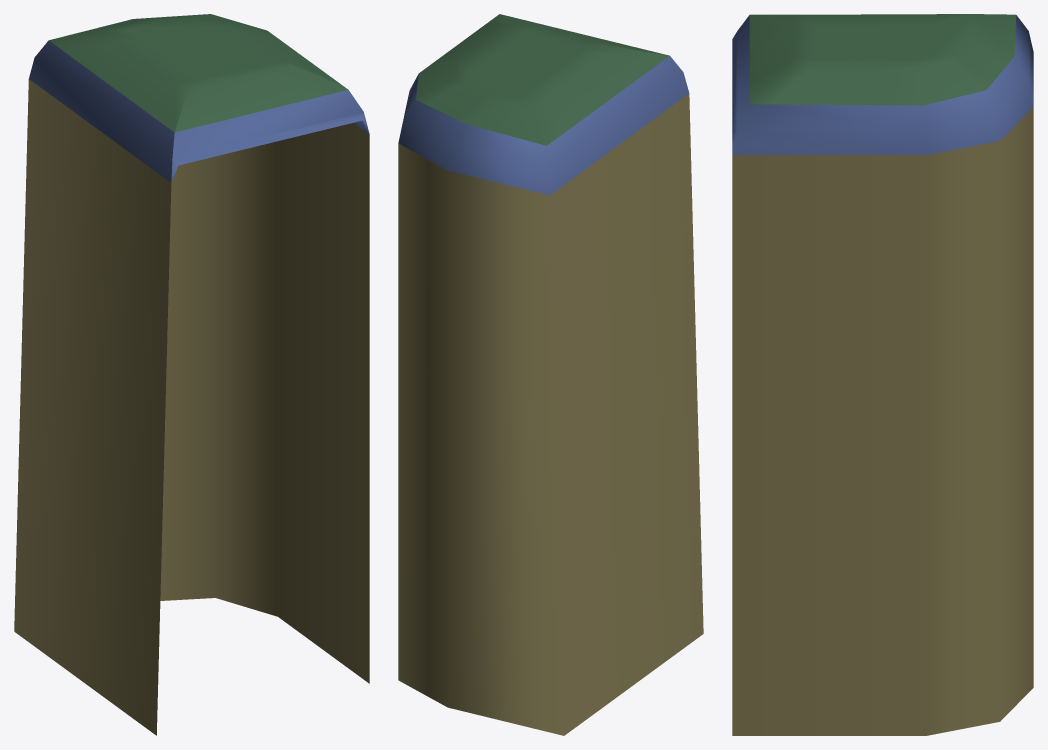
Rendered from Plat_secret_1.fbx.
3 renders of one model, left to right at view 1: azimuth 30°, elevation 25°; view 2: azimuth 150°, elevation 25°; view 3: azimuth 270°, elevation 25°, orthographic. The views are drawn at different scales.
Visible parts, largest first — view 1: Plat_secret_1, Ground7, Wall7; view 2: Plat_secret_1, Ground7, Wall7; view 3: Plat_secret_1, Ground7, Wall7.
Boxes of the visible parts, x1,y1,x2,y2 form: Plat_secret_1: (14, 79, 369, 735); Ground7: (49, 14, 348, 132); Wall7: (29, 40, 369, 182); Plat_secret_1: (398, 93, 703, 735); Ground7: (416, 14, 669, 145); Wall7: (398, 56, 689, 195); Plat_secret_1: (732, 107, 1033, 735); Ground7: (749, 14, 1016, 105); Wall7: (732, 15, 1033, 154).
Size of the model in its own units: 2004 by 5462 by 2324.
